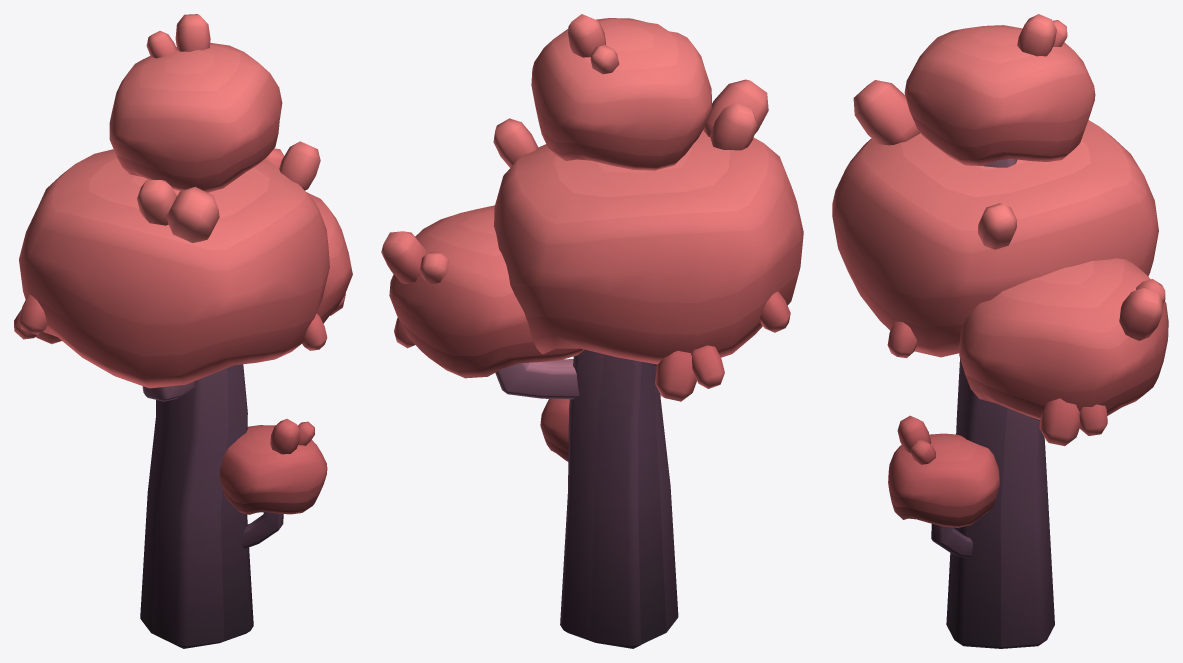
File: grassland_tree_col3_6.fbx
3 views of the same model, side by side, from view 1: azimuth 30°, elevation 25°; view 2: azimuth 150°, elevation 25°; view 3: azimuth 270°, elevation 25° (orthographic). The views are drawn at different scales.
Visible parts, largest first — view 1: grassland_tree_col3_6; view 2: grassland_tree_col3_6; view 3: grassland_tree_col3_6.
Boxes of the visible parts, x1,y1,x2,y2 form: grassland_tree_col3_6: (14,14,352,648); grassland_tree_col3_6: (381,14,803,648); grassland_tree_col3_6: (832,14,1168,648).
Bounding box in the file's own units: 651 × 1081 × 531.
